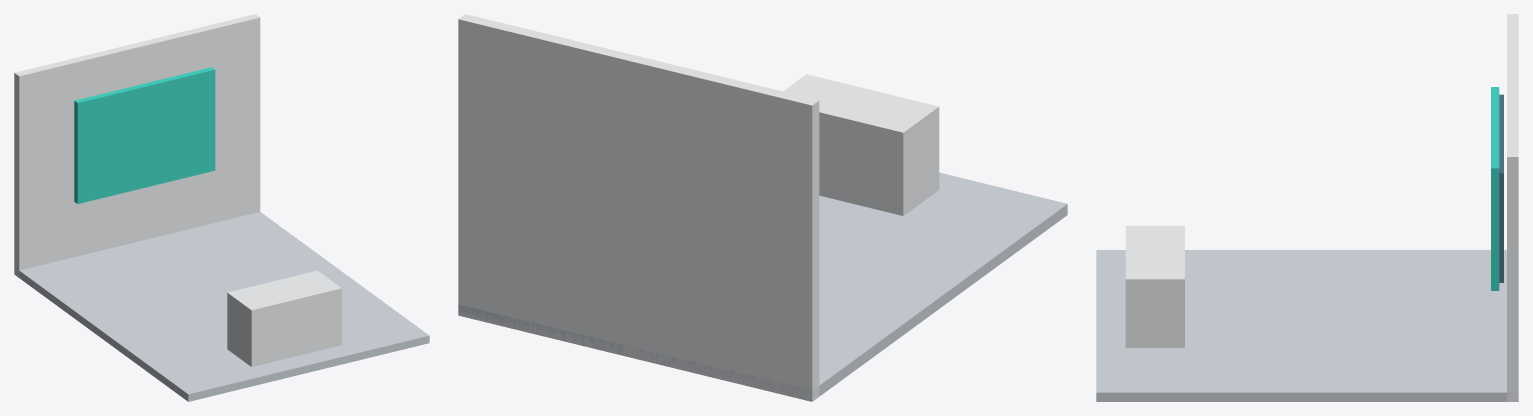
The picture shows the model from 3 angles, left to right: view 1: azimuth 30°, elevation 25°; view 2: azimuth 150°, elevation 25°; view 3: azimuth 270°, elevation 25°; orthographic projection. The views are drawn at different scales.
Visible parts, largest first — view 1: Exhibition Booth Concept; view 2: Exhibition Booth Concept; view 3: Exhibition Booth Concept.
Part boxes in pixels (<box>): Exhibition Booth Concept: <box>14,14,429,401</box>; Exhibition Booth Concept: <box>458,14,1067,401</box>; Exhibition Booth Concept: <box>1096,14,1518,401</box>.
Size of the model in its own units: 4 by 3.2 by 5.
